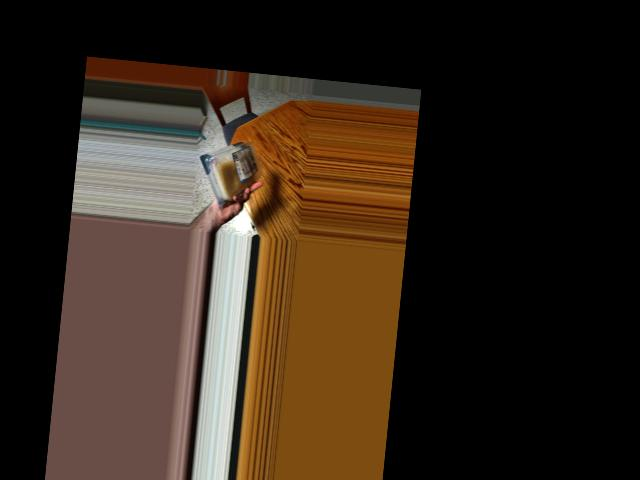cheese: (203, 134, 263, 206)
